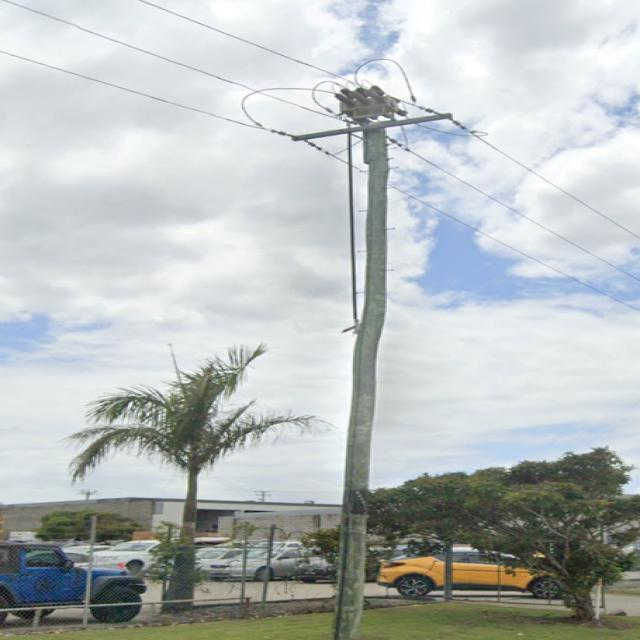HV-switch: (332, 84, 408, 124)
crossarm: (291, 112, 452, 141)
timber-pole: (329, 124, 392, 640)
